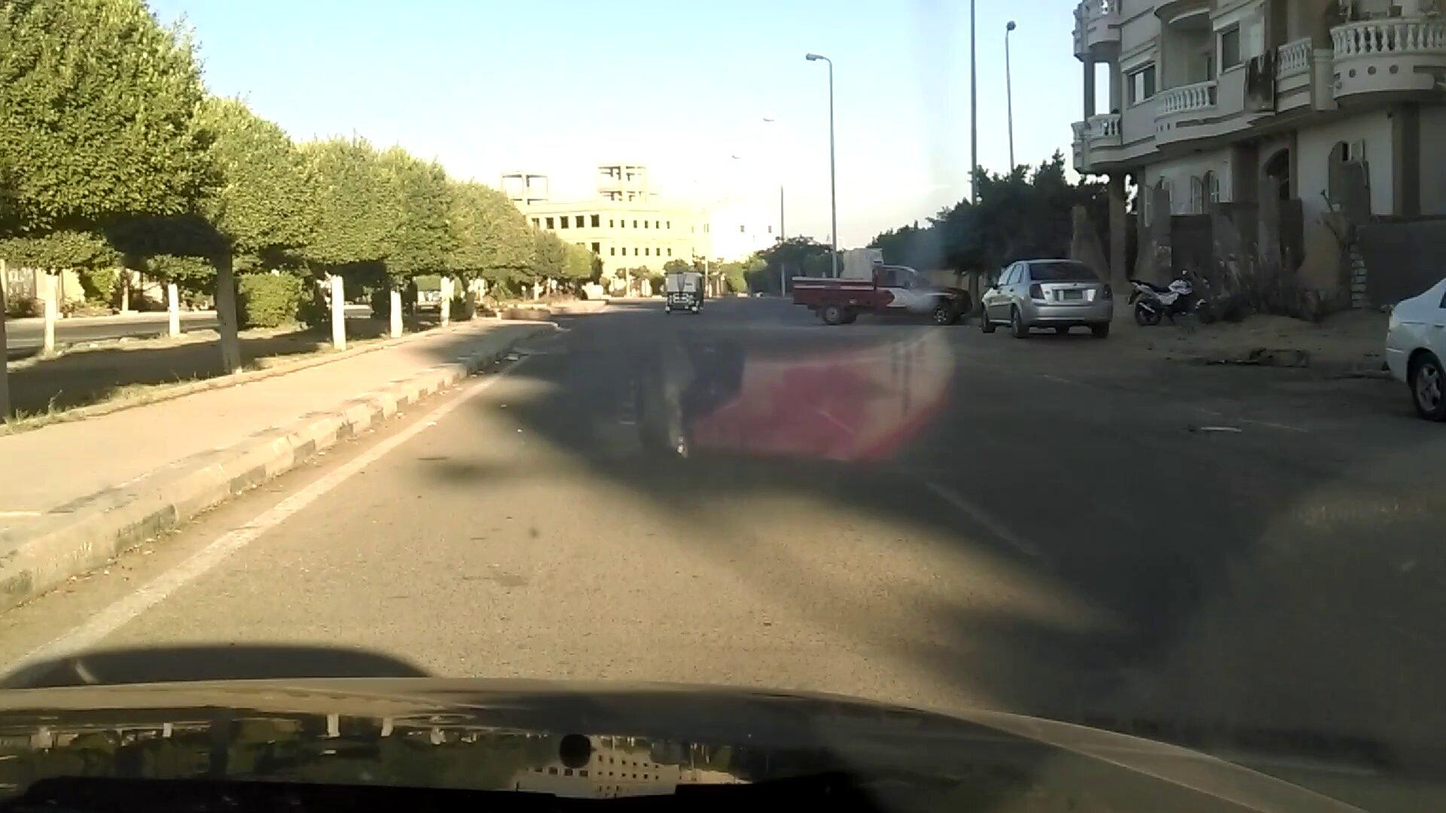Bump: (505, 336, 1163, 363)
